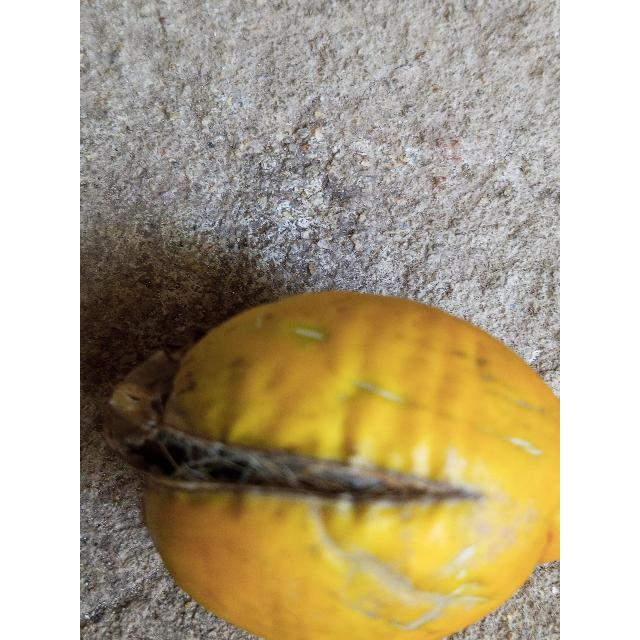damaged: (106, 291, 560, 640)
